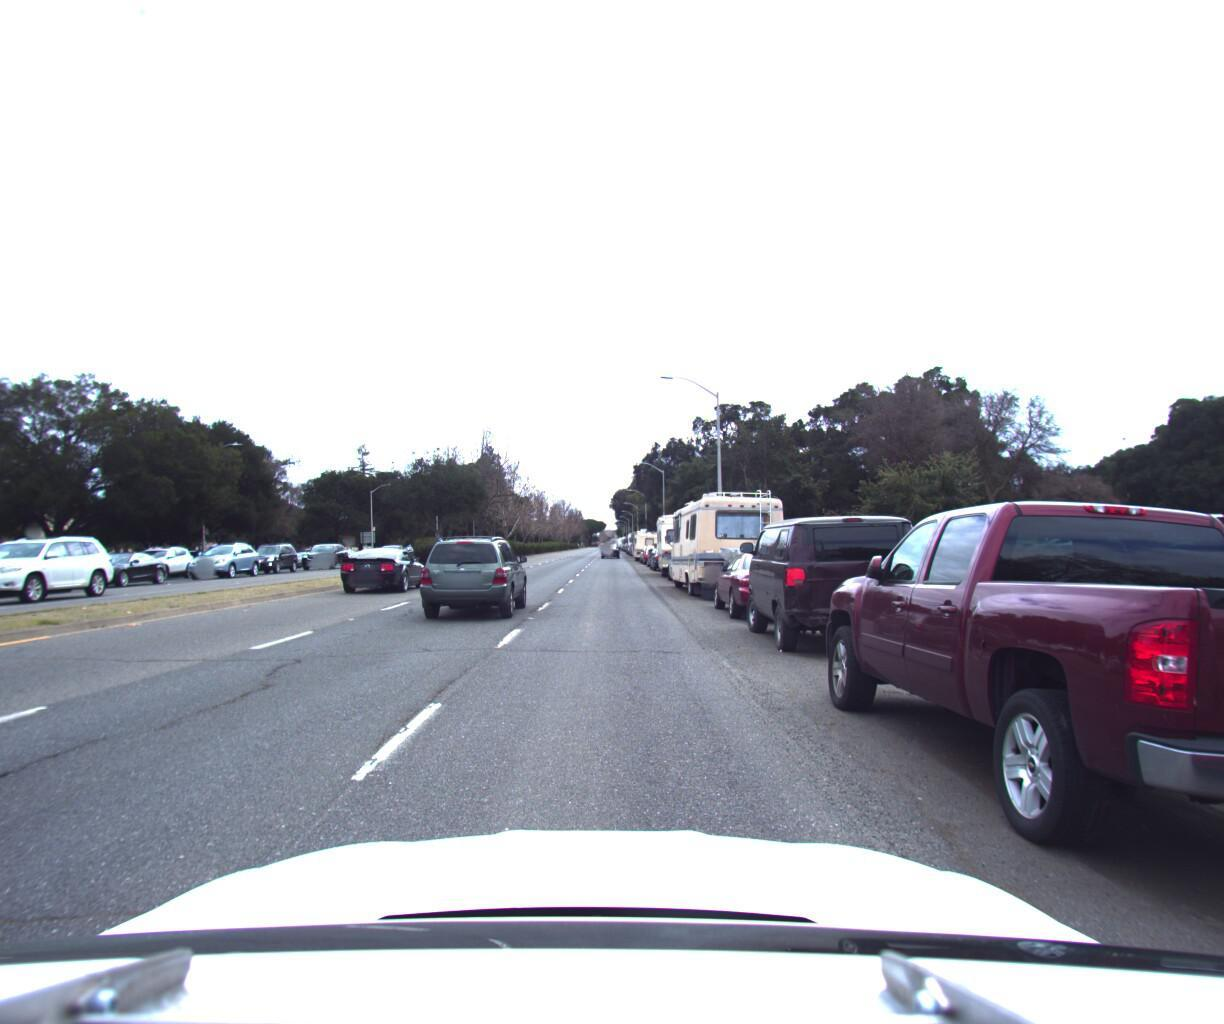car: (792, 471, 1224, 985), (733, 506, 934, 669), (700, 543, 828, 623), (419, 531, 530, 620), (0, 531, 122, 605), (57, 542, 176, 586), (335, 538, 431, 590), (0, 544, 72, 601), (181, 537, 264, 574), (130, 539, 210, 576), (240, 539, 305, 570), (299, 539, 354, 566), (644, 537, 681, 567), (0, 547, 8, 601), (600, 536, 618, 551)
other_vehicle: (657, 474, 802, 606), (647, 500, 718, 577), (629, 521, 661, 556)
